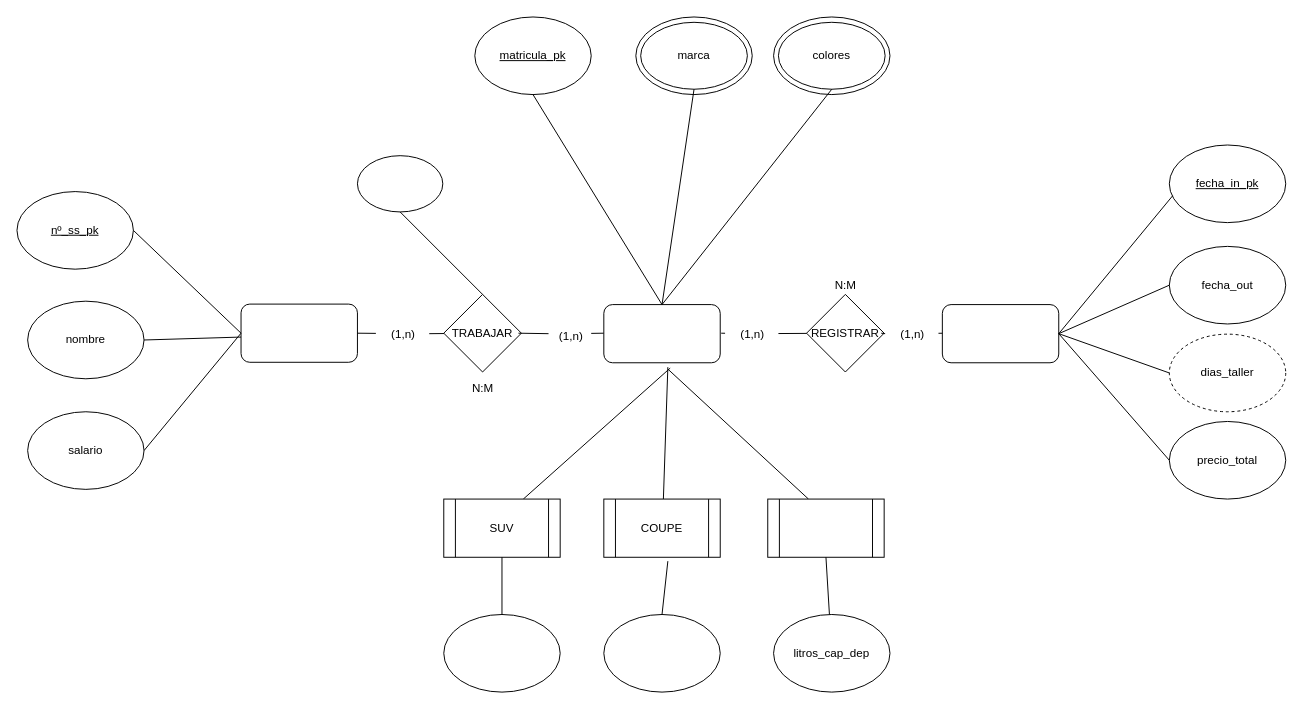
This 1303x709 diagram has some shape labels left out. Each missing label, with the centre of its shape:
"COCHE" goes at point (661, 333).
"horas_trabajo" goes at point (399, 183).
"MECANICO" goes at point (298, 332).
"nº_puertas" goes at point (661, 653).
"potencia" goes at point (501, 653).
"REPARACIÓN" goes at point (1000, 333).
"SEDAN" goes at point (825, 527).
